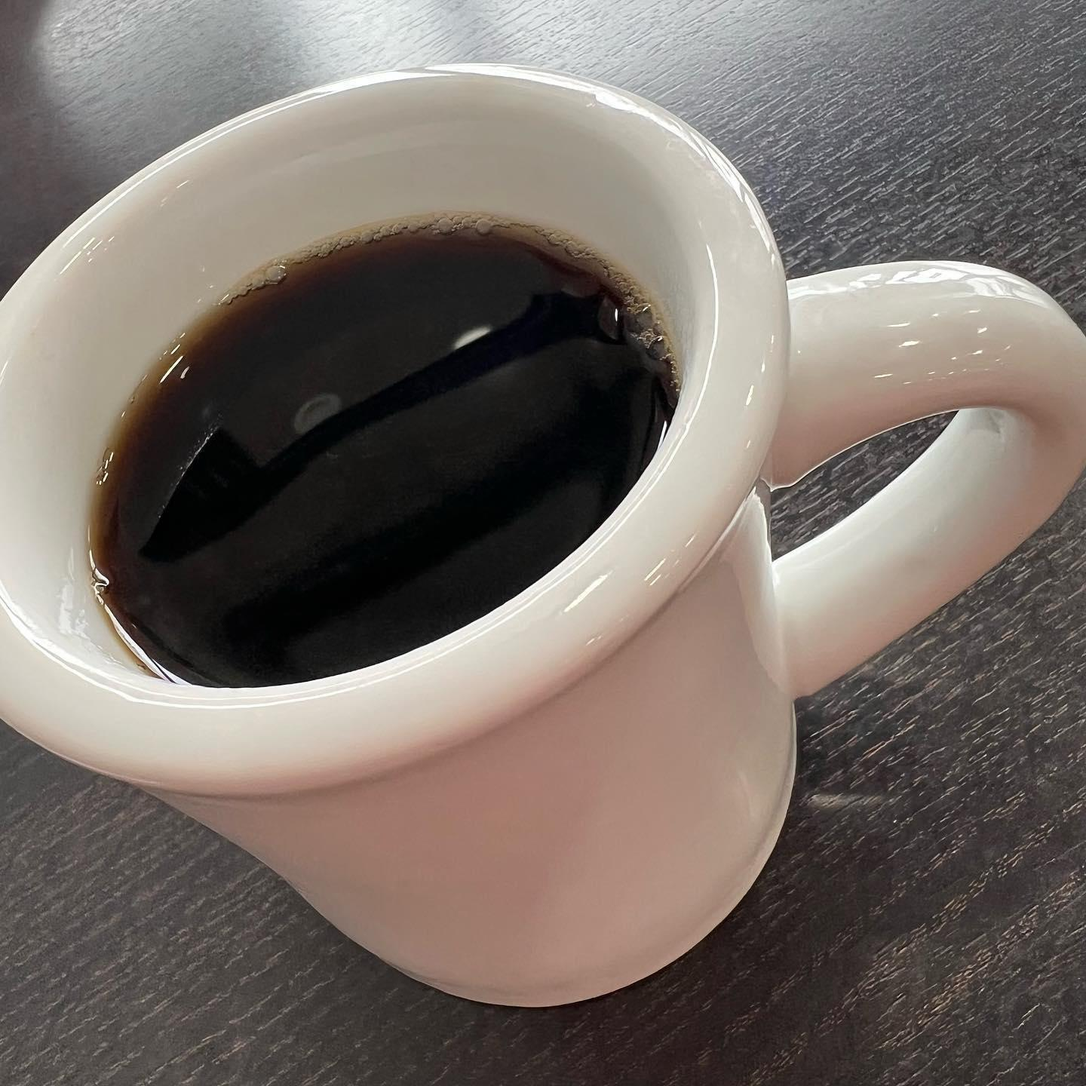cup-handle: (0, 48, 1086, 1023)
